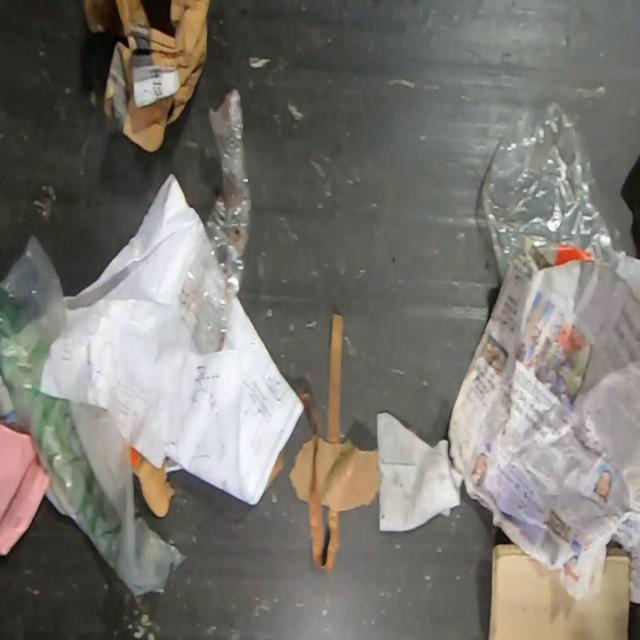cardboard: (81, 0, 210, 153), (487, 539, 631, 640), (315, 434, 378, 512), (132, 455, 178, 520), (288, 434, 314, 503)
soft_plastic: (0, 233, 189, 597), (479, 99, 628, 283), (176, 86, 253, 356)
